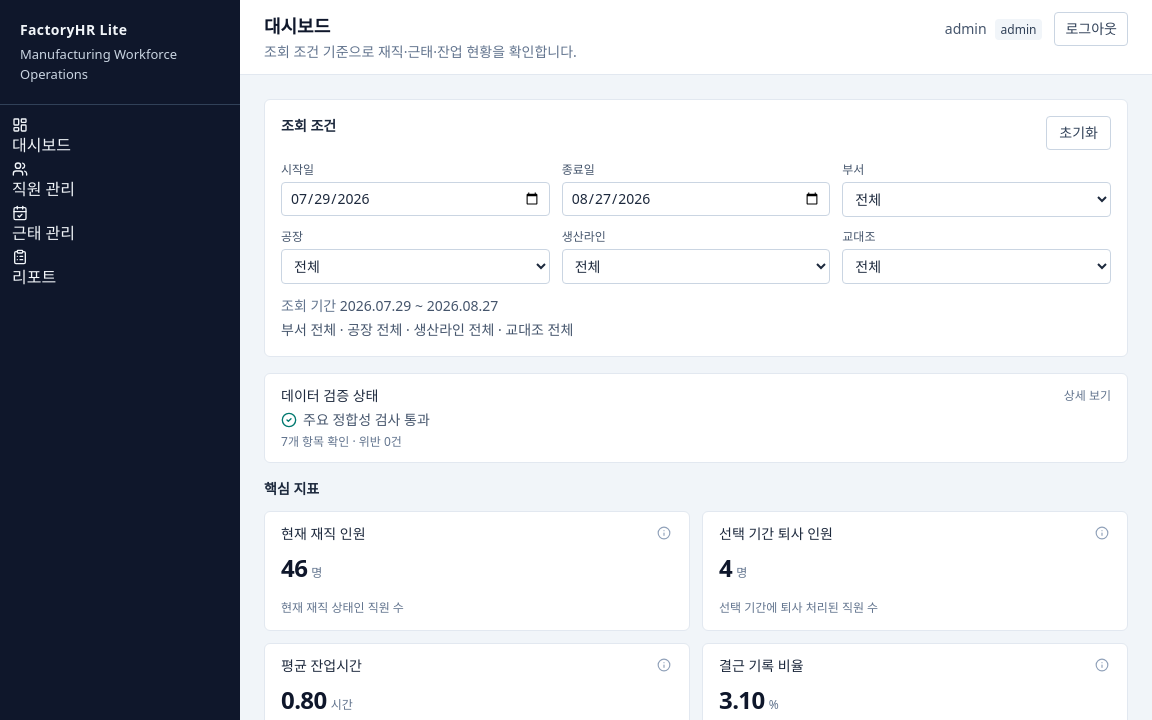
DashboardPage › updates the filter summary when a factory is selected
Select "대구1공장" in the dropdown labelled "공장" at (415, 266), box [281, 249, 550, 284]
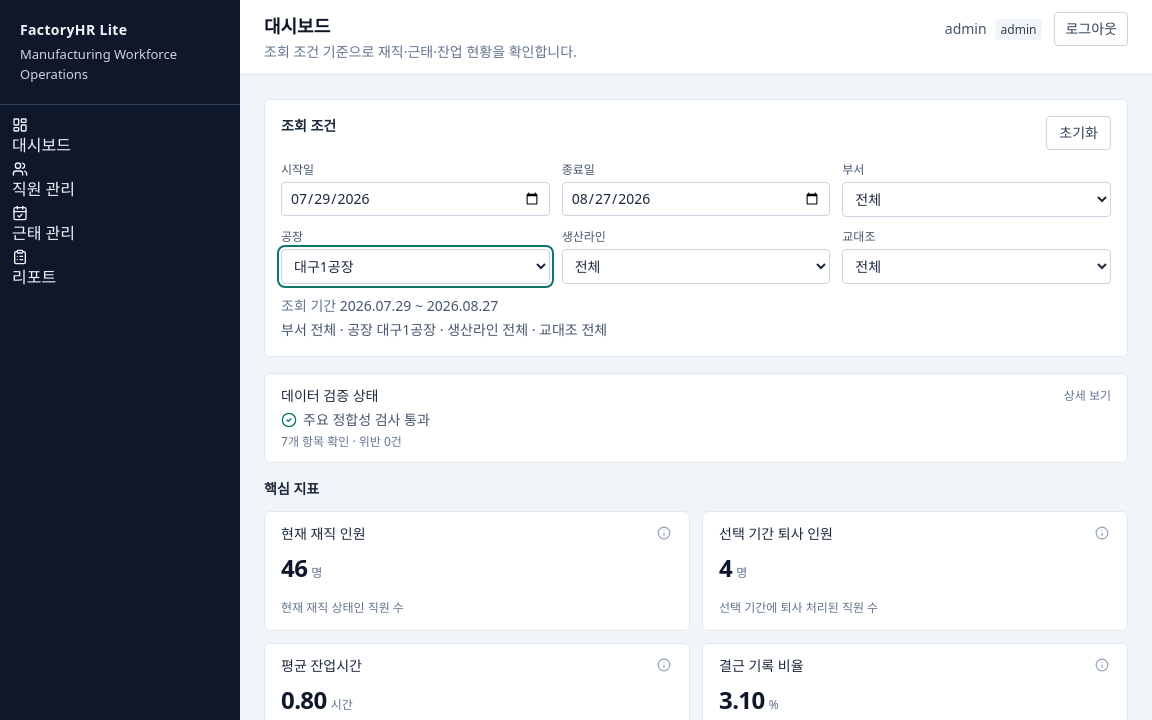
Result: the element with test id "filter-summary" shows "대구1공장" at [281, 320, 607, 339]
